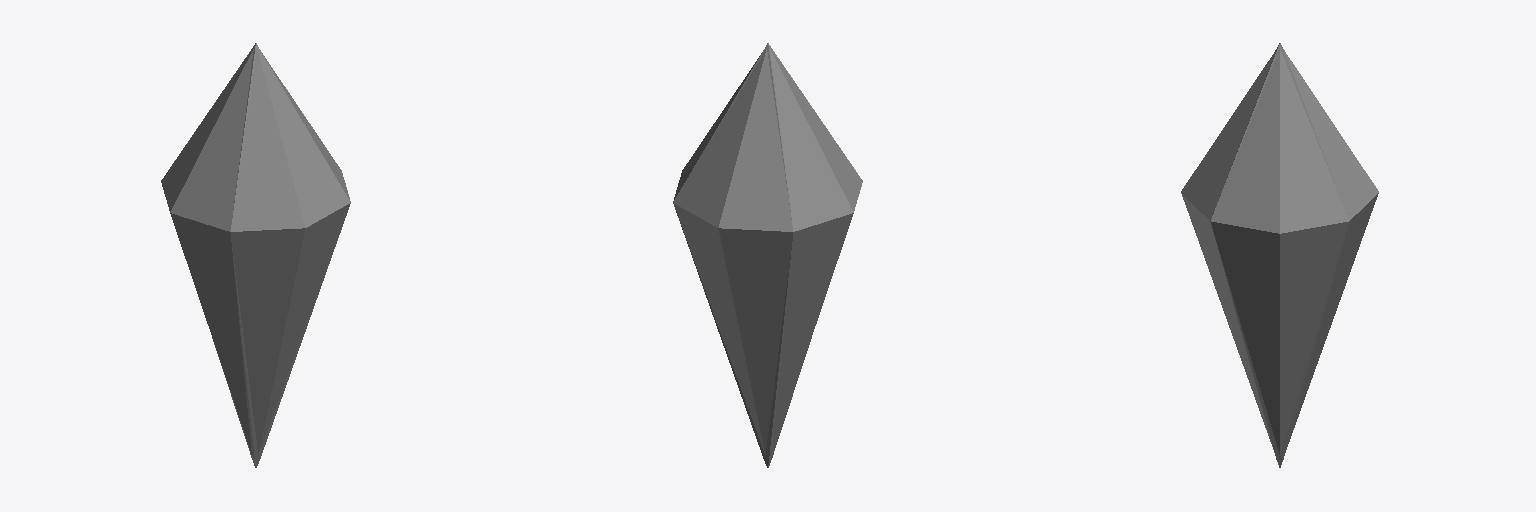
Rendered from gem_low.obj.
The picture shows the model from 3 angles: view 1: azimuth 30°, elevation 25°; view 2: azimuth 150°, elevation 25°; view 3: azimuth 270°, elevation 25°; orthographic projection.
Parts seen in each view (by area): view 1: Plane002; view 2: Plane002; view 3: Plane002.
Boxes of the visible parts, <box> form: Plane002: <box>161,43,350,467</box>; Plane002: <box>673,43,862,467</box>; Plane002: <box>1181,43,1378,467</box>.
Bounding box in the file's own units: 0.1934 × 0.4591 × 0.1934.